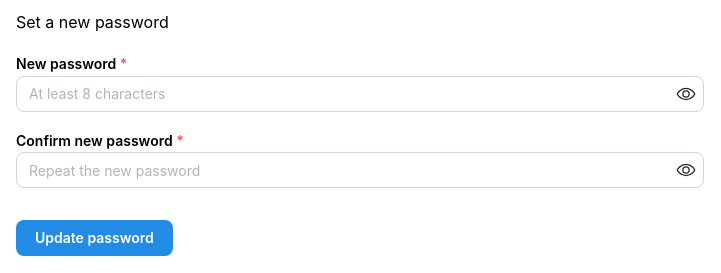
it: the reset-password page › resets with the token from the URL and hands off to sign-in
Type "sunlight-123" into the password field labelled "New password *".
click(360, 94); type("sunlight-123")  # box x1=17 y1=77 x2=703 y2=111
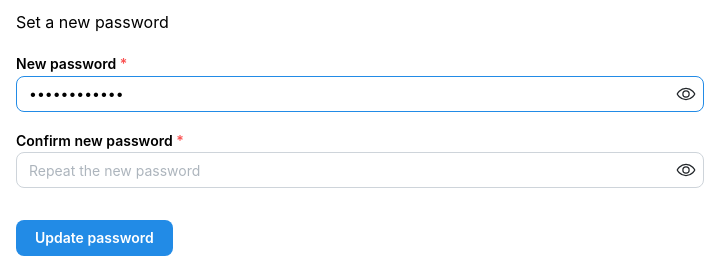
Type "sunlight-123" into the password field labelled "Confirm new password *".
click(360, 170); type("sunlight-123")  # box x1=17 y1=153 x2=703 y2=187
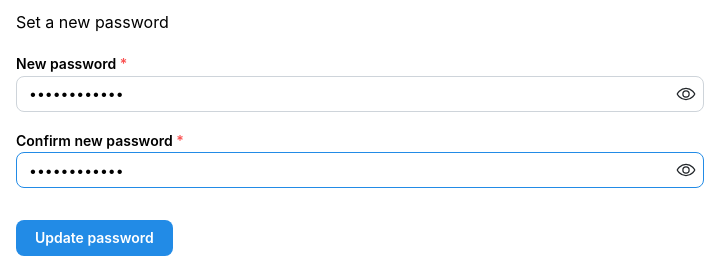
Click the button "Update password".
click(94, 238)  # box x1=16 y1=220 x2=173 y2=256
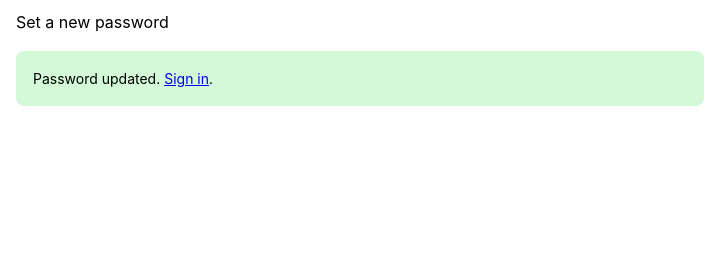
Check: the text "Password updated. Sign in ." is shown, box x1=33 y1=70 x2=213 y2=87
